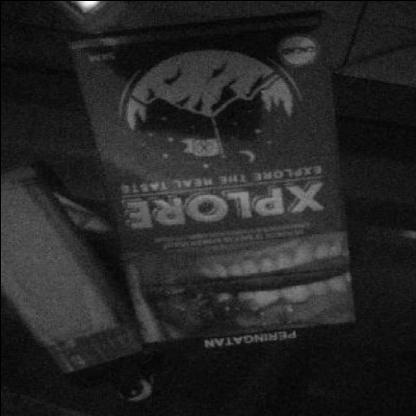objects: (70, 12, 354, 341)
